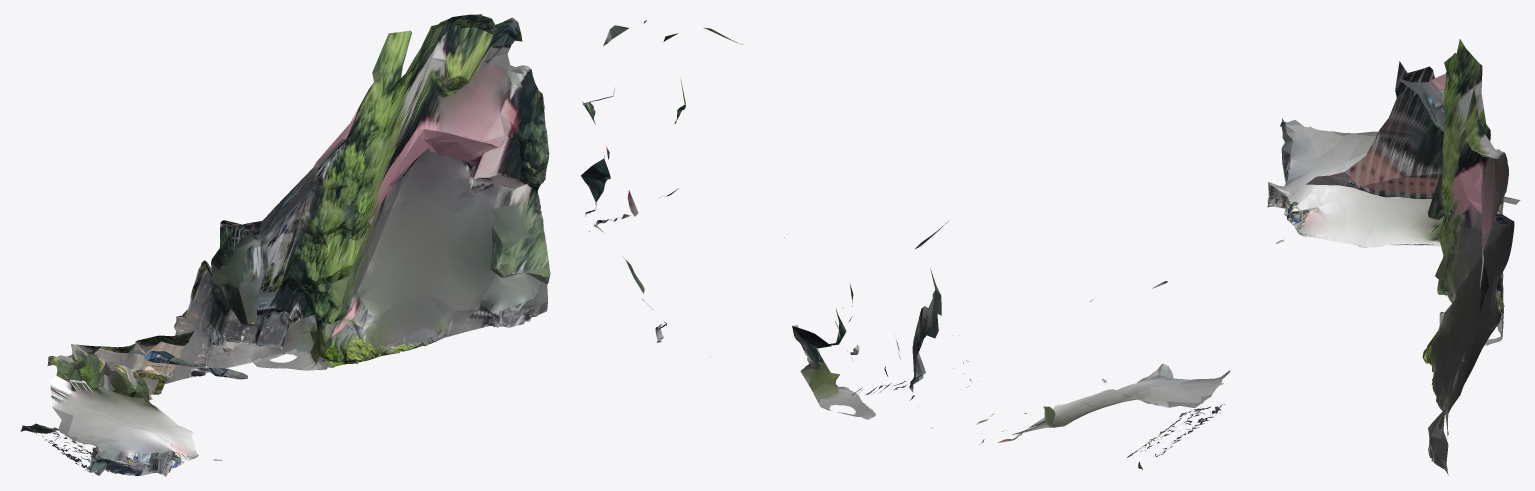
Rendered from Tile_+002_+004.glb.
The picture shows the model from 3 angles, left to right: view 1: azimuth 30°, elevation 25°; view 2: azimuth 150°, elevation 25°; view 3: azimuth 270°, elevation 25°; orthographic projection. The views are drawn at different scales.
Parts seen in each view (by area): view 1: Node; view 2: Node; view 3: Node.
Boxes of the visible parts, x1=… form: Node: x1=20, y1=14, x2=550, y2=476; Node: x1=581, y1=20, x2=1230, y2=469; Node: x1=1267, y1=39, x2=1520, y2=475.
Size of the model in its own units: 200 by 113 by 69.6.
1 material, 1 textured.
